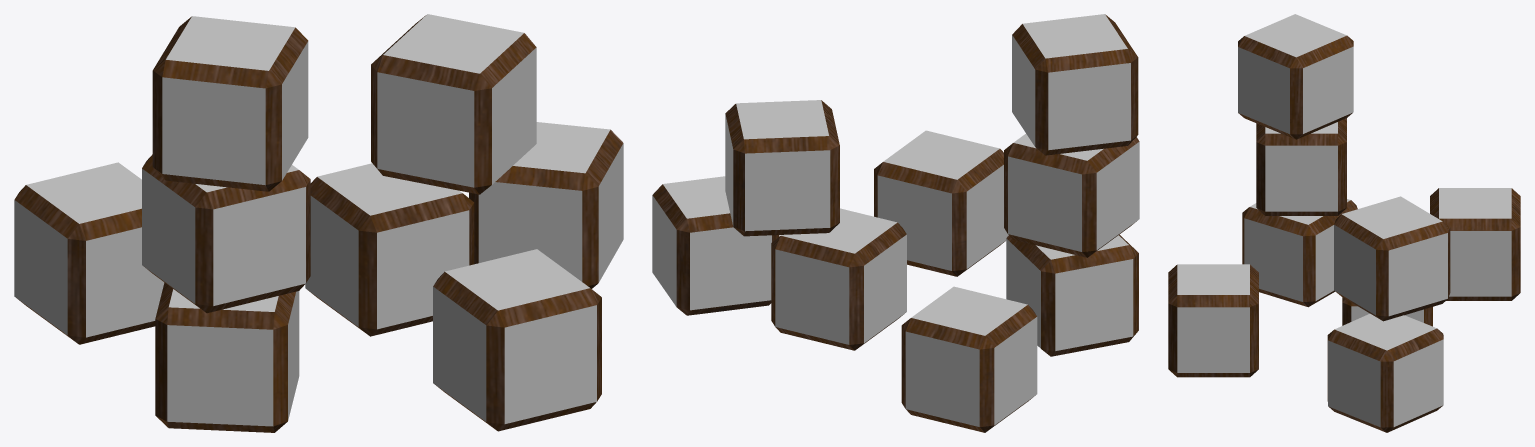
Rendered from cubes_toy.gltf.
3 views of the same model, side by side, from view 1: azimuth 30°, elevation 25°; view 2: azimuth 150°, elevation 25°; view 3: azimuth 270°, elevation 25° (orthographic). The views are drawn at different scales.
Parts seen in each view (by area): view 1: pCube15; view 2: pCube15; view 3: pCube15.
Part boxes in pixels (left/top/right/bottom): pCube15: left=14, top=14, right=623, bottom=432; pCube15: left=652, top=14, right=1139, bottom=432; pCube15: left=1168, top=14, right=1520, bottom=432.
Size of the model in its own units: 6.18 by 4.11 by 5.23.
